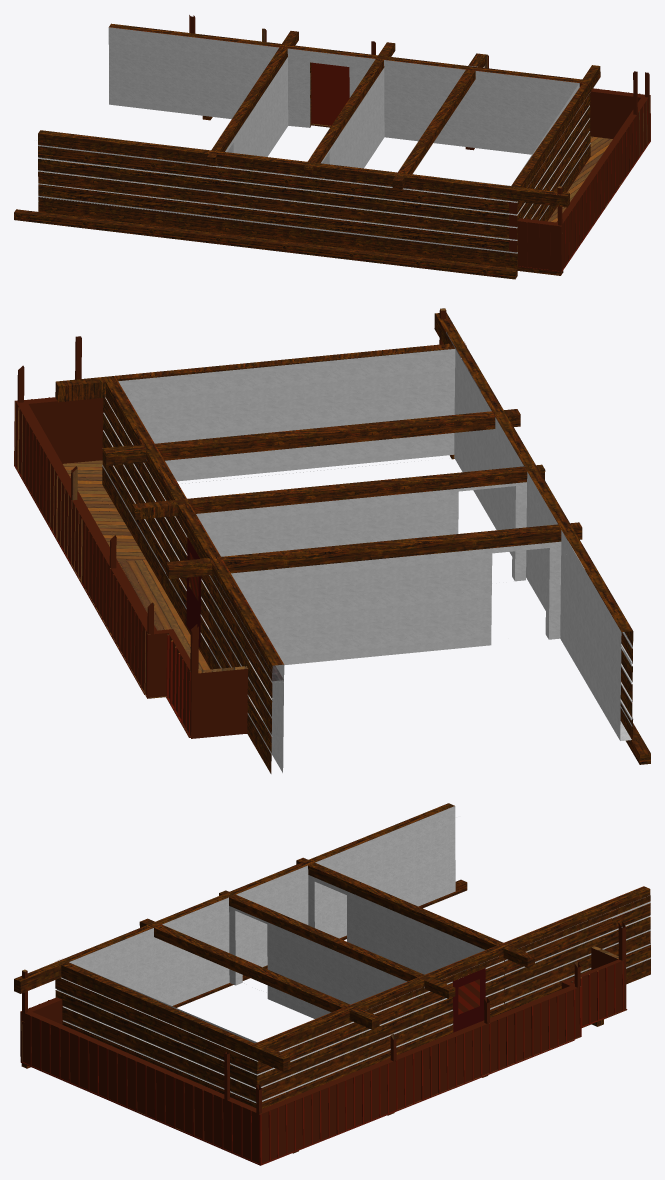
Rendered from steny_1_patro.gltf.
The picture shows the model from 3 angles, top to bottom: view 1: azimuth 30°, elevation 25°; view 2: azimuth 150°, elevation 25°; view 3: azimuth 270°, elevation 25°; orthographic projection. The views are drawn at different scales.
Parts seen in each view (by area): view 1: root; view 2: root; view 3: root.
Boxes of the visible parts, bbox=[...] form: root: bbox=[14, 15, 650, 279]; root: bbox=[14, 308, 650, 773]; root: bbox=[14, 803, 650, 1165].
Size of the model in its own units: 13.86 by 2.43 by 12.78.
11 materials, 6 textured.
